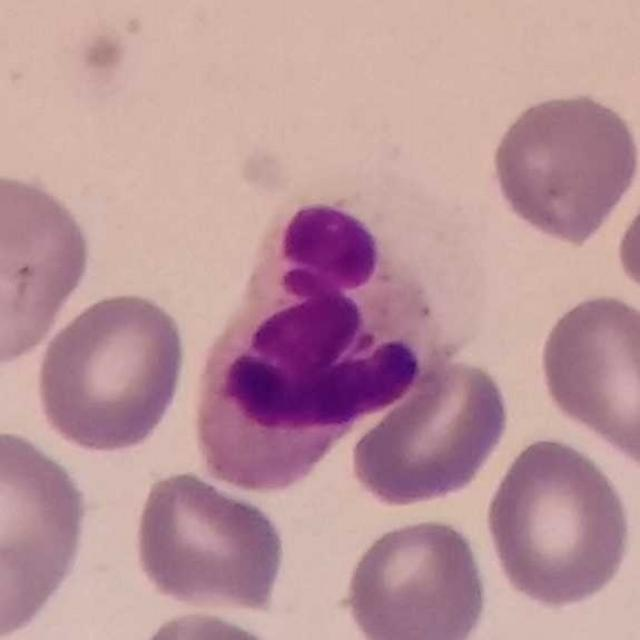Neutrophil: (180, 179, 494, 497)
Platelets: (81, 24, 134, 80)
RBC: (481, 432, 635, 610), (31, 286, 190, 456), (346, 349, 512, 510), (485, 87, 639, 247), (128, 466, 291, 616), (0, 423, 96, 639), (337, 513, 493, 640), (0, 166, 96, 372), (535, 288, 640, 473), (126, 606, 297, 640), (611, 167, 640, 322)
